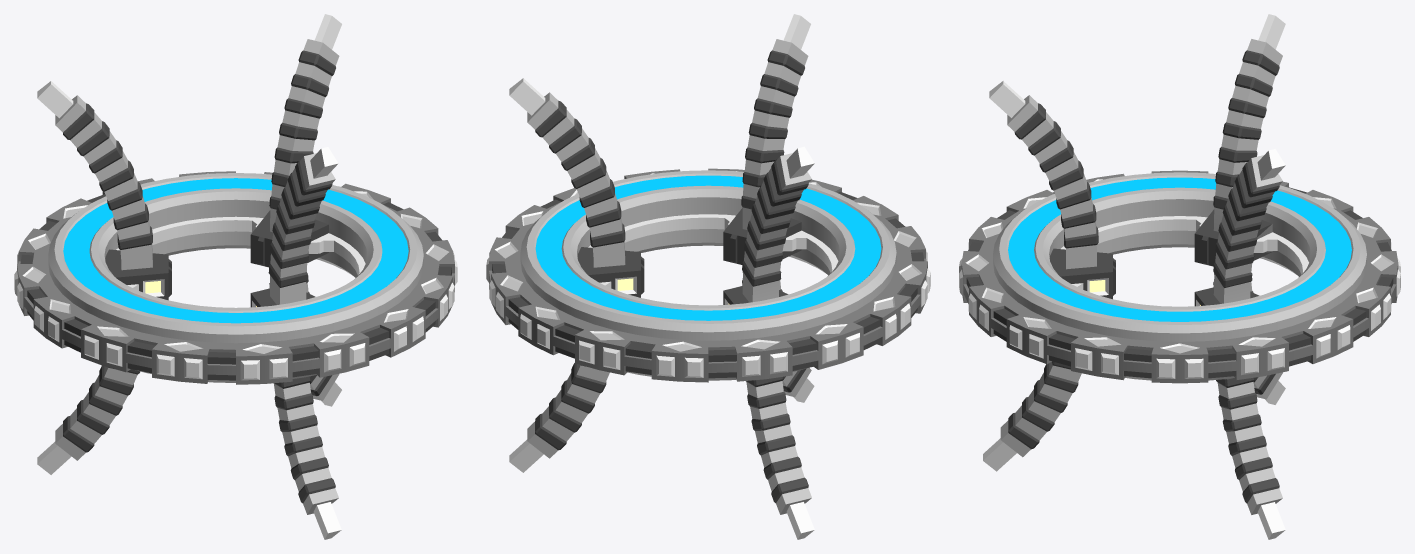
Rendered from Station04.fbx.
The picture shows the model from 3 angles, left to right: view 1: azimuth 30°, elevation 25°; view 2: azimuth 150°, elevation 25°; view 3: azimuth 270°, elevation 25°; orthographic projection.
Parts seen in each view (by area): view 1: Mesh_HD; view 2: Mesh_HD; view 3: Mesh_HD.
Boxes of the visible parts, bbox=[...] form: Mesh_HD: bbox=[14, 14, 457, 539]; Mesh_HD: bbox=[486, 14, 930, 539]; Mesh_HD: bbox=[959, 14, 1400, 539].
Size of the model in its own units: 1417 by 1379 by 1417.
